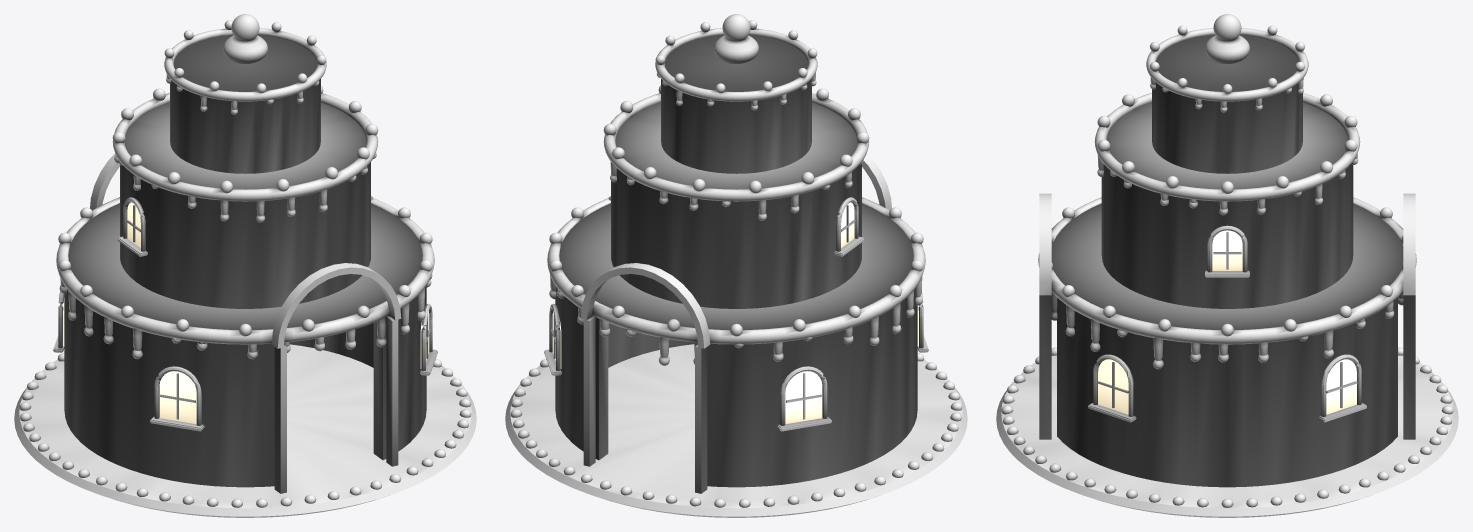
The model's file is HOB_House_TierCake.fbx.
3 renders of one model, left to right at view 1: azimuth 30°, elevation 25°; view 2: azimuth 150°, elevation 25°; view 3: azimuth 270°, elevation 25°, orthographic.
Parts seen in each view (by area): view 1: HOB_House_TierCake; view 2: HOB_House_TierCake; view 3: HOB_House_TierCake.
Part boxes in pixels (x1,y1,x2,y2): HOB_House_TierCake: (14, 14, 476, 517); HOB_House_TierCake: (505, 14, 967, 517); HOB_House_TierCake: (996, 14, 1458, 517).
Size of the model in its own units: 920 by 898 by 920.
